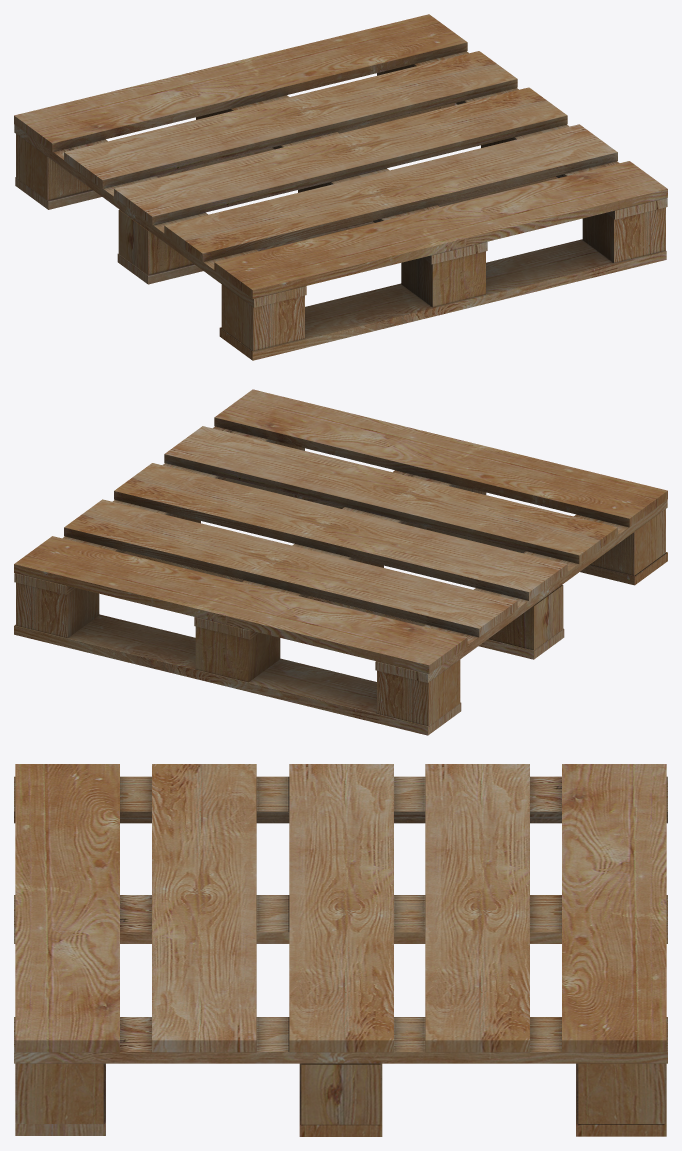
Rendered from Palette_LOD0.fbx.
3 views of the same model, one above another, from view 1: azimuth 30°, elevation 25°; view 2: azimuth 150°, elevation 25°; view 3: azimuth 270°, elevation 25° (orthographic). The views are drawn at different scales.
Parts seen in each view (by area): view 1: polySurface195; view 2: polySurface195; view 3: polySurface195.
Boxes of the visible parts, bbox=[...] form: polySurface195: bbox=[14, 14, 667, 360]; polySurface195: bbox=[14, 389, 667, 735]; polySurface195: bbox=[14, 764, 667, 1136].
Size of the model in its own units: 2.16 by 0.3492 by 2.15.
